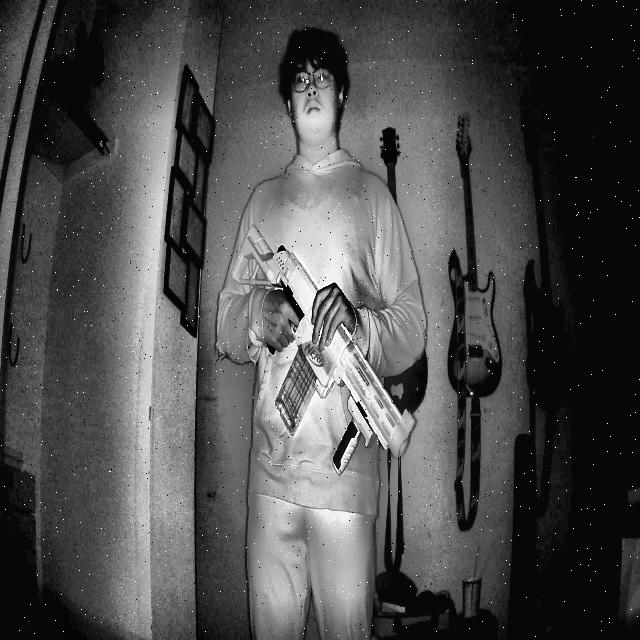knife: (228, 209, 420, 498)
